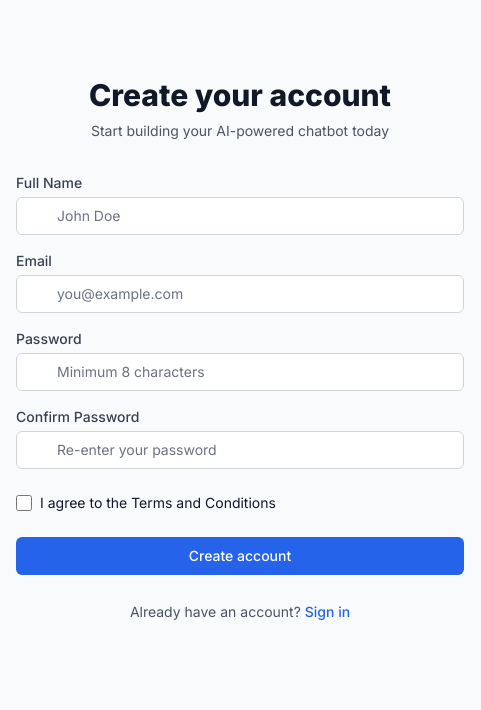
Test: SignupPage › displays validation error for weak password
Type "123" into the password field labelled "Password" at (240, 372), box [16,353,464,391]
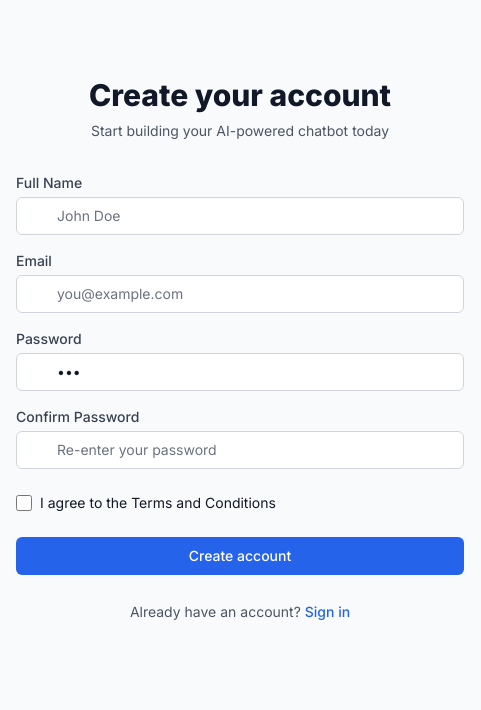
Click the button "Create account" at (240, 556), box [16,537,464,575]
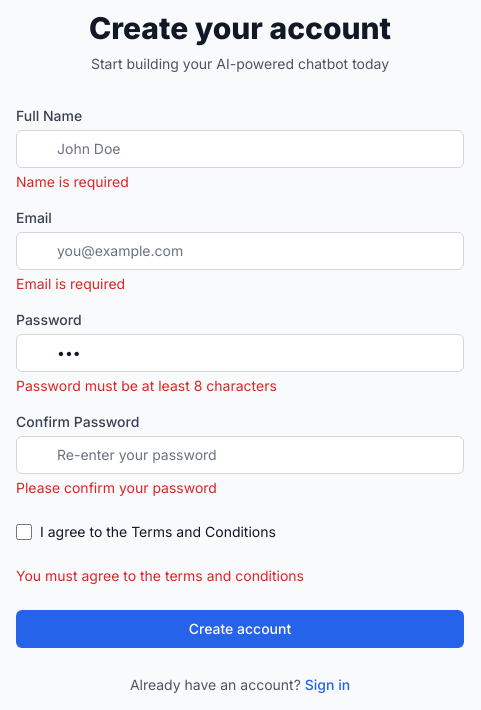
Now the text "Password must be at least 8 characters" is shown, box [16,377,277,394]
